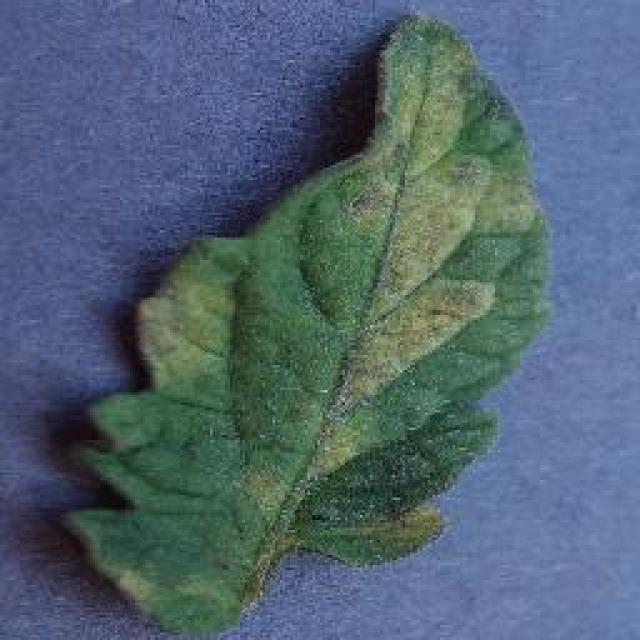Tomato mold leaf: (60, 11, 553, 640)
